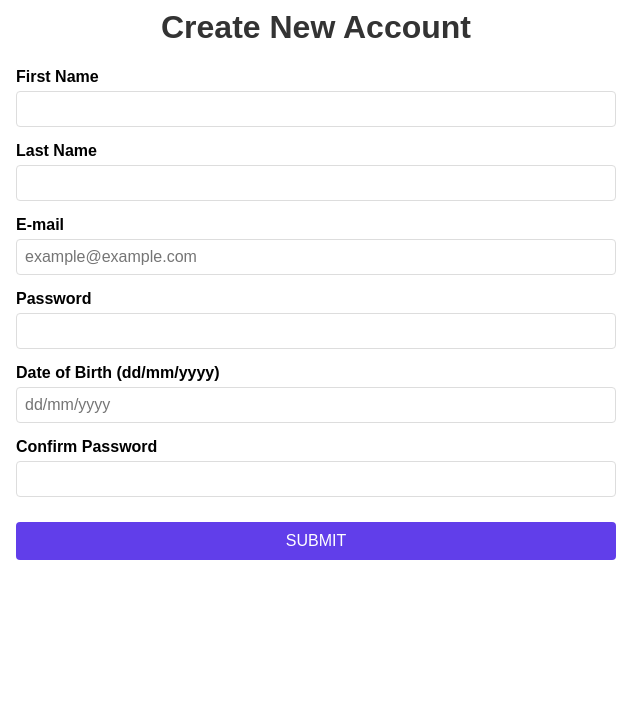
Test case: Form validation tests › shows error when passwords do not match
Type "password123" into the password field labelled "Password" at (316, 331), box [16,313,616,349]
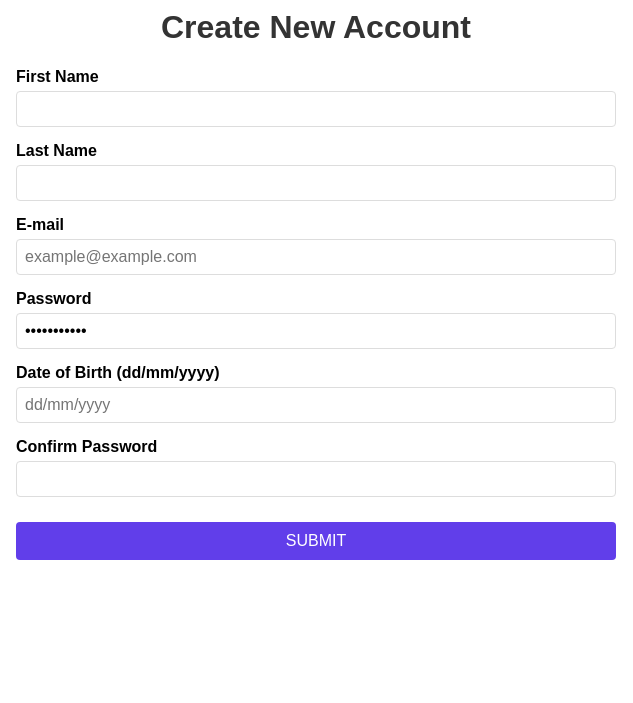
Type "password321" into the password field labelled "Confirm Password" at (316, 479), box [16,461,616,497]
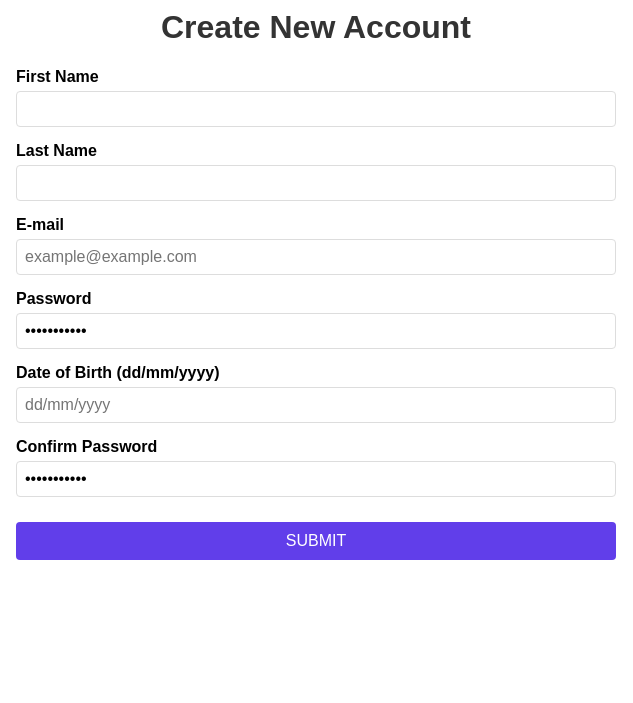
Click the button "SUBMIT" at (316, 541), box [16,522,616,560]
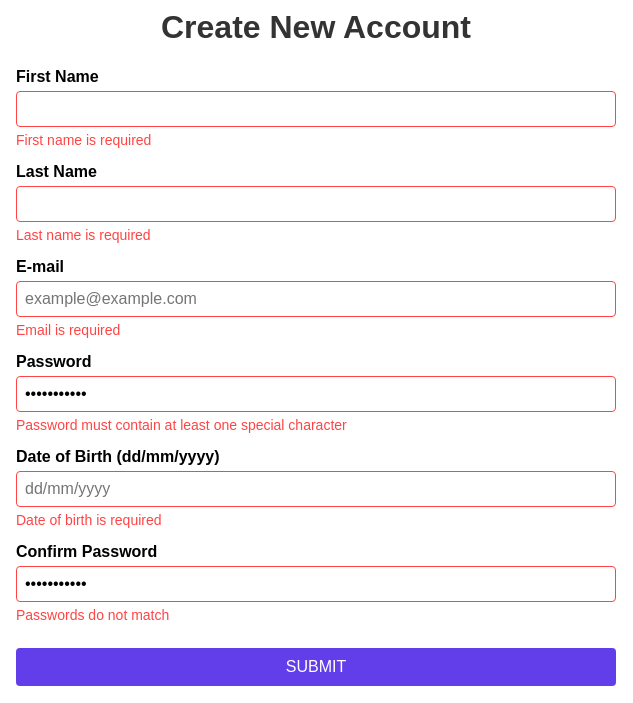
Result: the text "Passwords do not match" is shown at [16,607,169,623]
